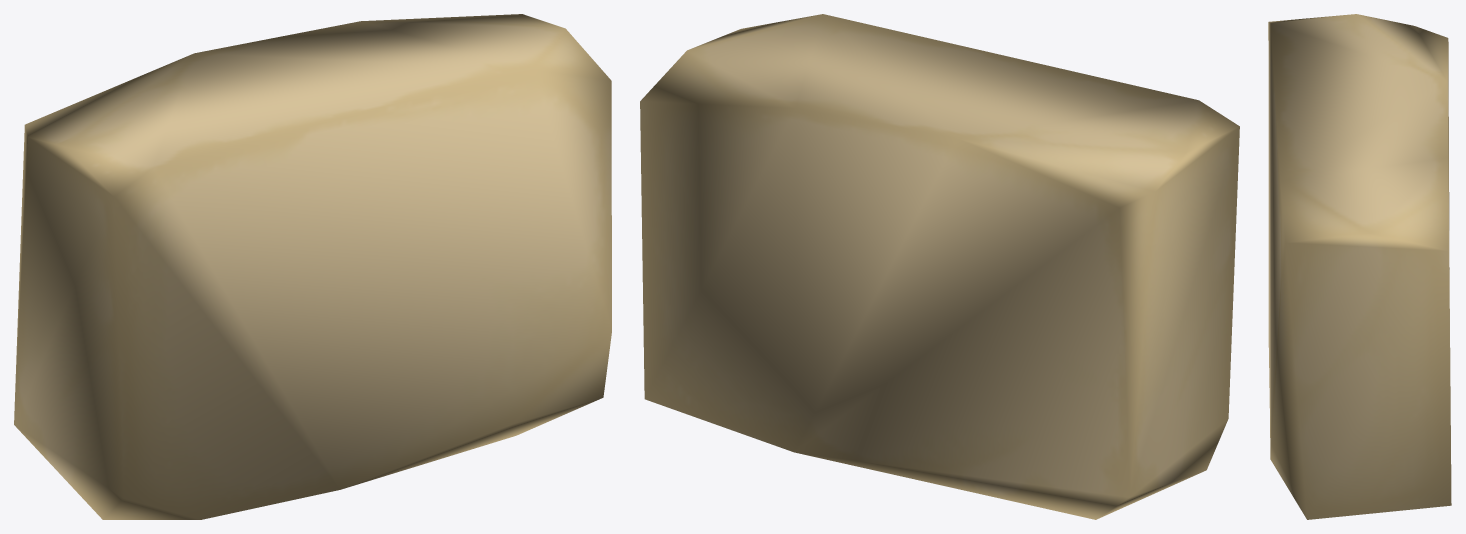
The model's file is Brick3.fbx.
3 renders of one model, left to right at view 1: azimuth 30°, elevation 25°; view 2: azimuth 150°, elevation 25°; view 3: azimuth 270°, elevation 25°, orthographic. The views are drawn at different scales.
Visible parts, largest first — view 1: 3low1; view 2: 3low1; view 3: 3low1.
Boxes of the visible parts, x1,y1,x2,y2 form: 3low1: (14, 14, 611, 519); 3low1: (640, 14, 1239, 519); 3low1: (1268, 14, 1451, 519).
Size of the model in its own units: 0.5082 by 0.349 by 0.1861.
1 material, 1 textured.
